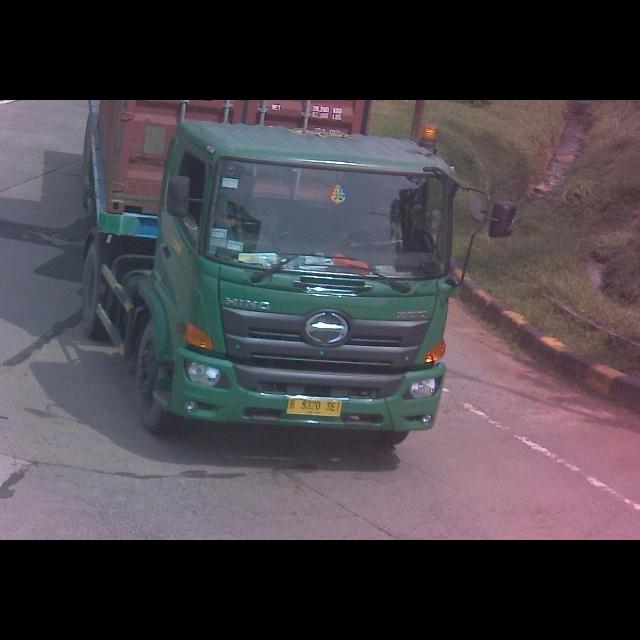plate: (286, 397, 344, 417)
